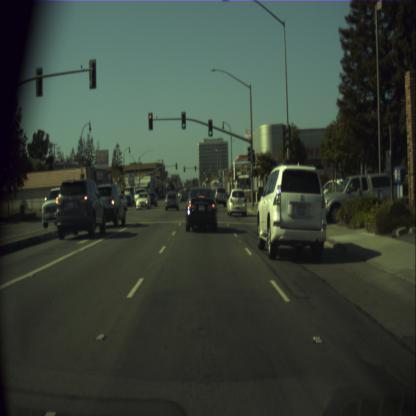Green: (180, 112, 186, 128), (208, 119, 212, 136), (252, 153, 255, 164), (203, 168, 205, 173)
Red: (183, 166, 185, 172)
RedLeft: (148, 112, 152, 129)
off: (194, 165, 196, 170)
